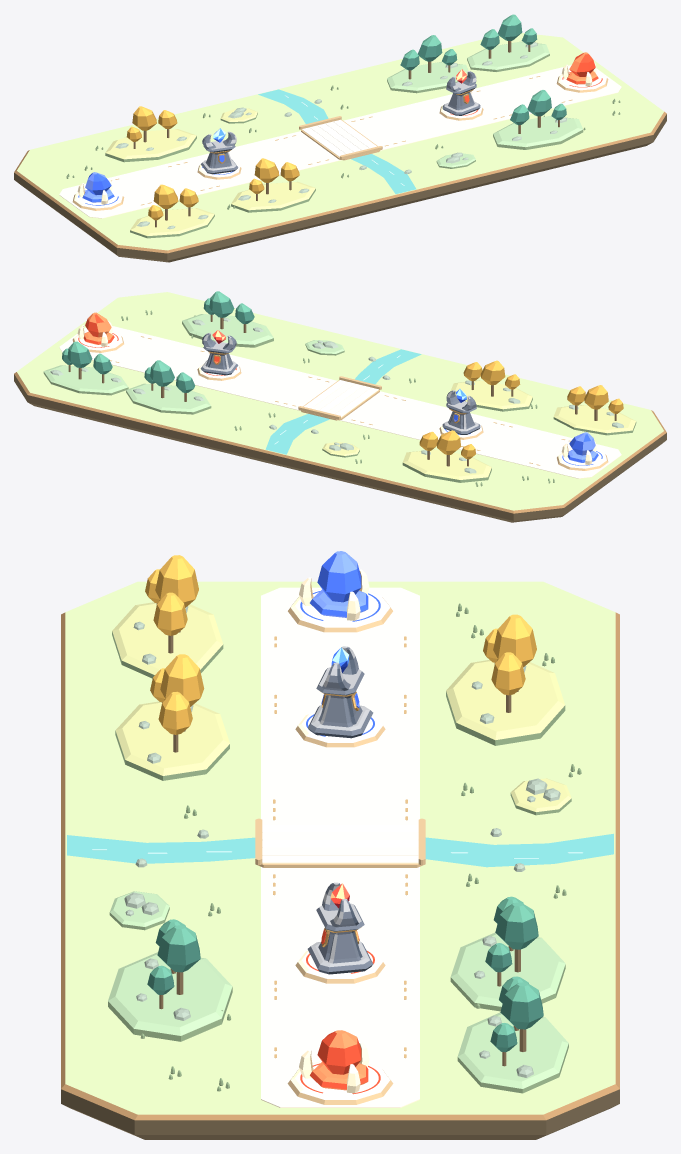
File: aram-arena.glb
3 views of the same model, one above another, from view 1: azimuth 30°, elevation 25°; view 2: azimuth 150°, elevation 25°; view 3: azimuth 270°, elevation 25° (orthographic). The views are drawn at different scales.
Visible parts, largest first — view 1: Clipped earth board.001, Ivory lane.001, Grove plateau.009, Mint river.001, Grove plateau.006, Grove plateau.007, Grove plateau.013, Grove plateau.012, Grove plateau.008, Nexus stone footprint • blue, Nexus stone footprint • orange, Canopy.022 (+7 smaller); view 2: Clipped earth board.001, Ivory lane.001, Mint river.001, Grove plateau.006, Grove plateau.009, Grove plateau.008, Grove plateau.012, Grove plateau.013, Grove plateau.007, Nexus stone footprint • blue, Canopy.022, Canopy.028 (+8 smaller); view 3: Clipped earth board.001, Ivory lane.001, Mint river.001, Grove plateau.009, Grove plateau.006, Grove plateau.007, Grove plateau.013, Grove plateau.012, Grove plateau.008, Nexus stone footprint • blue, Nexus stone footprint • orange, Blue Nexus crystal (+23 smaller).
Part boxes in pixels (x1,y1,x2,y2): Clipped earth board.001: (14, 33, 666, 262); Ivory lane.001: (59, 65, 621, 218); Grove plateau.009: (493, 116, 583, 149); Mint river.001: (258, 89, 416, 193); Grove plateau.006: (105, 129, 196, 162); Grove plateau.007: (231, 181, 315, 212); Grove plateau.013: (467, 41, 549, 71); Grove plateau.012: (130, 208, 214, 238); Grove plateau.008: (387, 62, 468, 93); Nexus stone footprint • blue: (72, 189, 124, 210); Nexus stone footprint • orange: (556, 70, 608, 92); Canopy.022: (527, 90, 551, 116); Clipped earth board.001: (14, 292, 666, 522); Ivory lane.001: (59, 326, 621, 478); Mint river.001: (265, 349, 421, 454); Grove plateau.006: (402, 449, 491, 482); Grove plateau.009: (182, 314, 273, 347); Grove plateau.008: (126, 383, 211, 414); Grove plateau.012: (553, 405, 636, 435); Grove plateau.013: (43, 365, 128, 395); Grove plateau.007: (450, 380, 532, 411); Nexus stone footprint • blue: (557, 449, 608, 470); Canopy.022: (209, 291, 234, 317); Canopy.028: (67, 341, 92, 367); Clipped earth board.001: (61, 581, 619, 1139); Ivory lane.001: (261, 587, 419, 1107); Mint river.001: (67, 833, 613, 867); Grove plateau.009: (108, 952, 232, 1041); Grove plateau.006: (446, 660, 565, 745); Grove plateau.007: (115, 701, 229, 780); Grove plateau.013: (457, 1012, 568, 1093); Grove plateau.012: (112, 602, 223, 678); Grove plateau.008: (450, 932, 565, 1011); Nexus stone footprint • blue: (288, 588, 392, 632); Nexus stone footprint • orange: (287, 1061, 393, 1104); Blue Nexus crystal: (317, 551, 361, 602).
Size of the model in its own units: 50 by 4.86 by 22.
